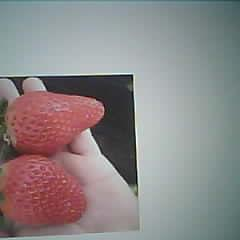straw-ripe: (2, 94, 105, 156), (0, 156, 87, 224)
